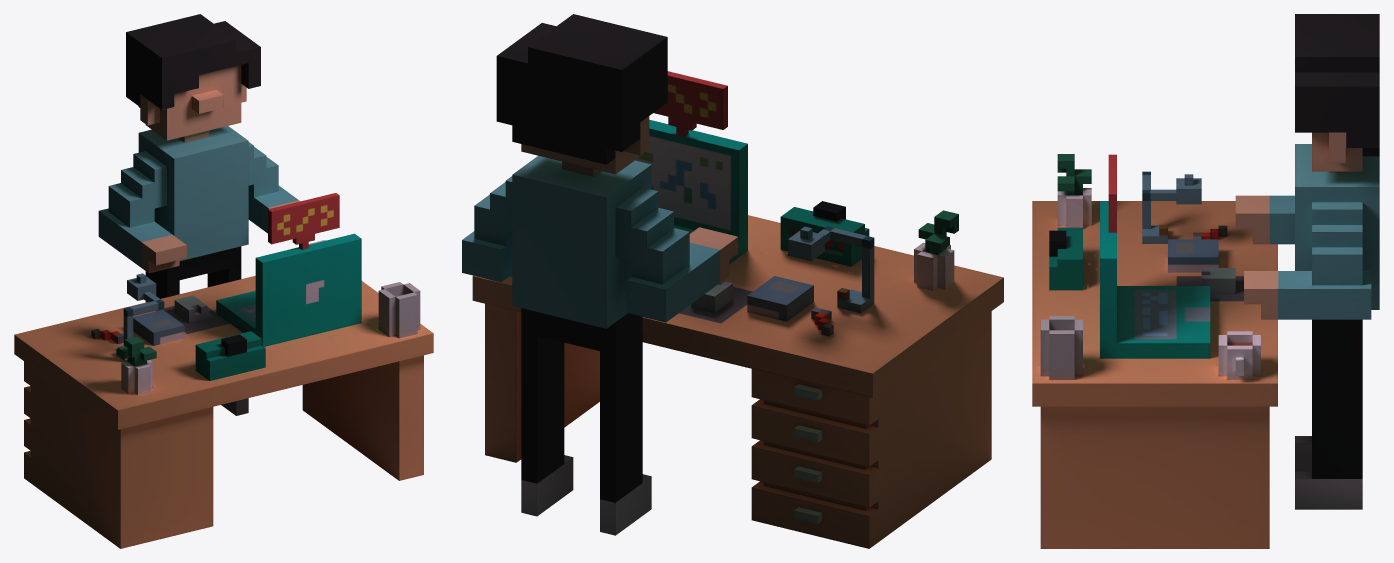
The picture shows the model from 3 angles, left to right: view 1: azimuth 30°, elevation 25°; view 2: azimuth 150°, elevation 25°; view 3: azimuth 270°, elevation 25°; orthographic projection. The views are drawn at different scales.
Visible parts, largest first — view 1: scene-1, dudude; view 2: scene-1, dudude; view 3: scene-1, dudude.
Part boxes in pixels (x1,y1,x2,y2): scene-1: (14, 193, 433, 548); dudude: (98, 14, 300, 415); scene-1: (472, 71, 1003, 548); dudude: (462, 14, 738, 535); scene-1: (1032, 154, 1277, 548); dudude: (1235, 14, 1379, 509).
Size of what is drawn, in the model's own units: 5.1 by 5.8 by 4.1.
Materials: 2 (2 with a texture image).
